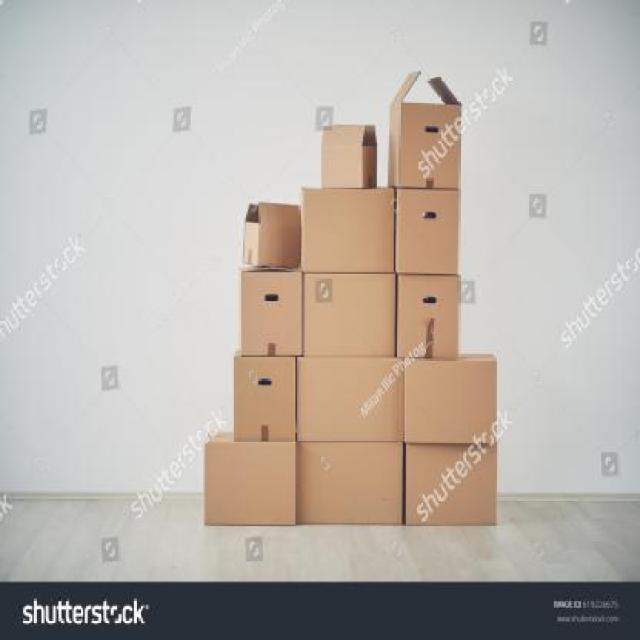BoxFace: (297, 358, 405, 440), (298, 442, 404, 524), (403, 357, 497, 445), (302, 272, 396, 356), (404, 444, 498, 527), (300, 190, 394, 272), (203, 442, 297, 524), (394, 274, 462, 358), (395, 189, 460, 274), (396, 104, 462, 187), (233, 356, 296, 442), (240, 272, 302, 358), (258, 224, 302, 267), (320, 146, 362, 188)
